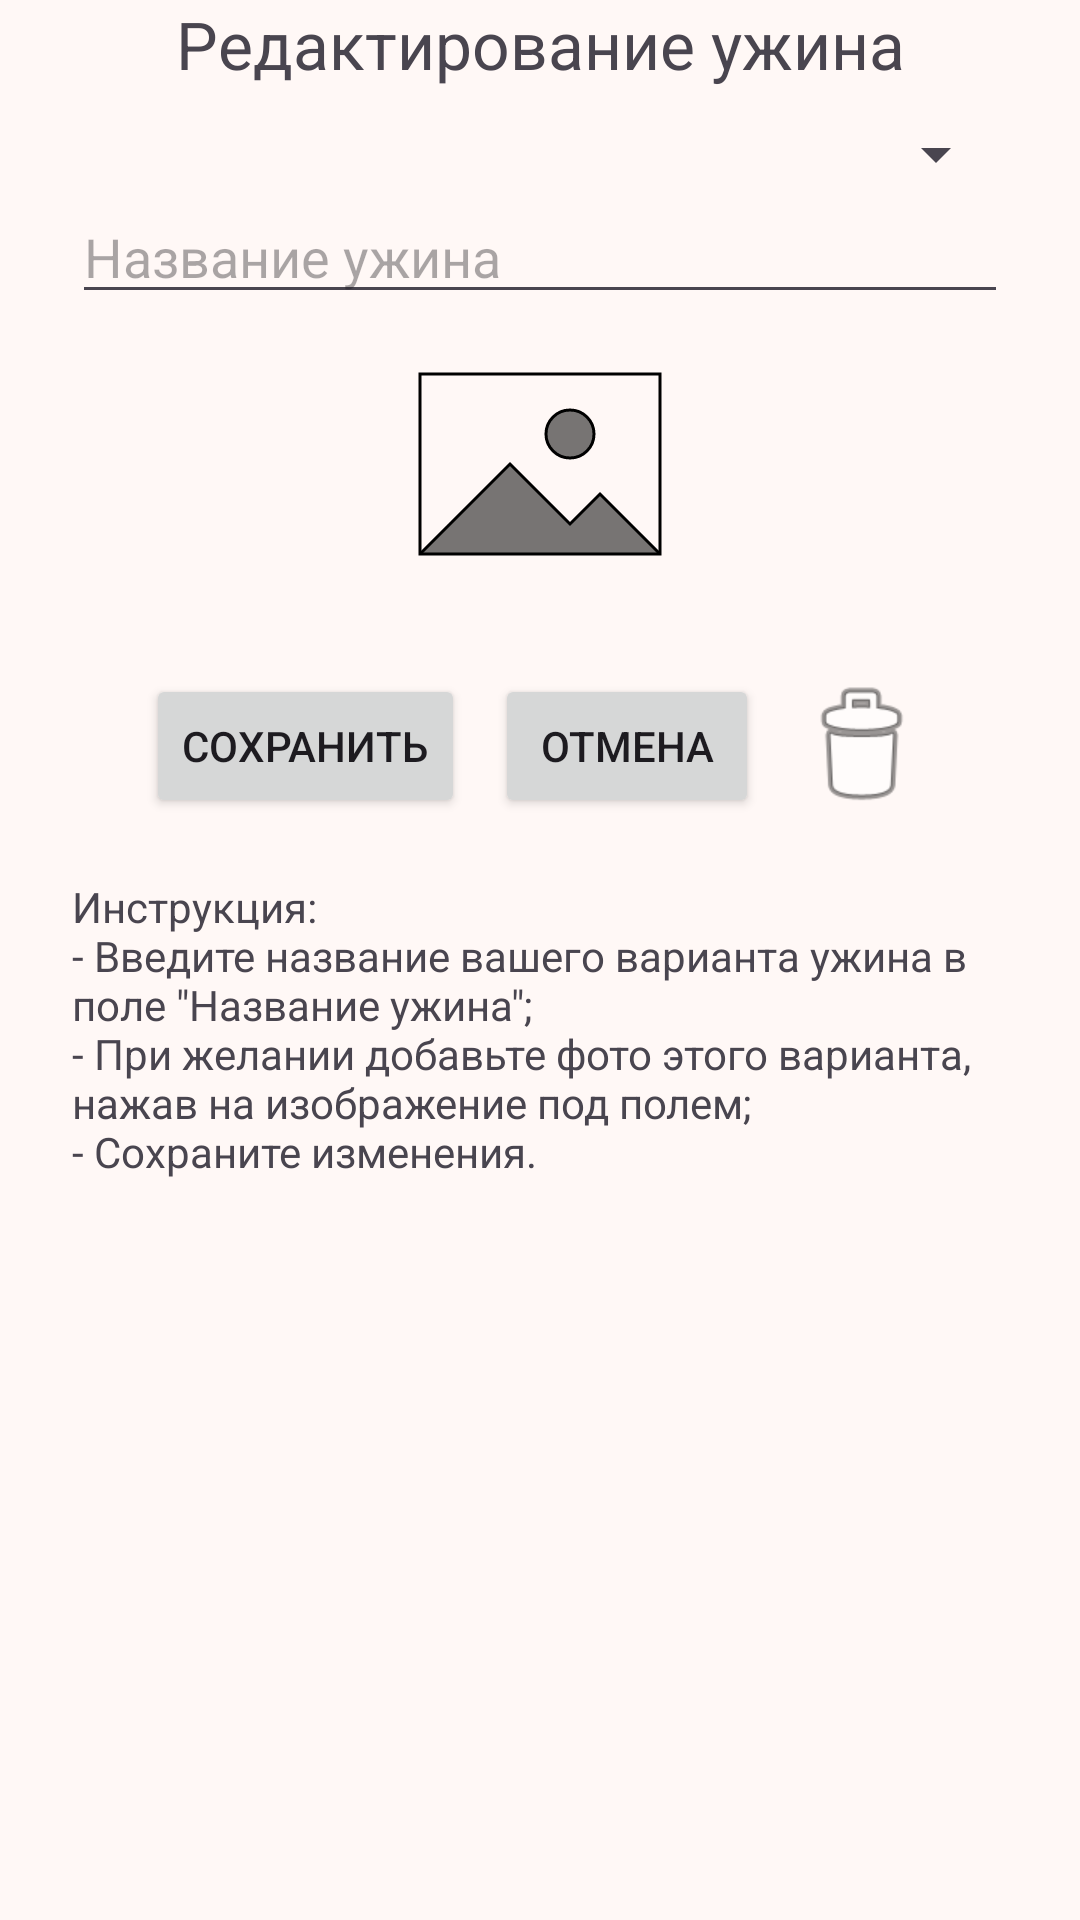

Locate icon controls on the screen. Image size 1080 × 1920, boxes as (x1, y1, x2, y2).
delete: (821, 687, 903, 800)
